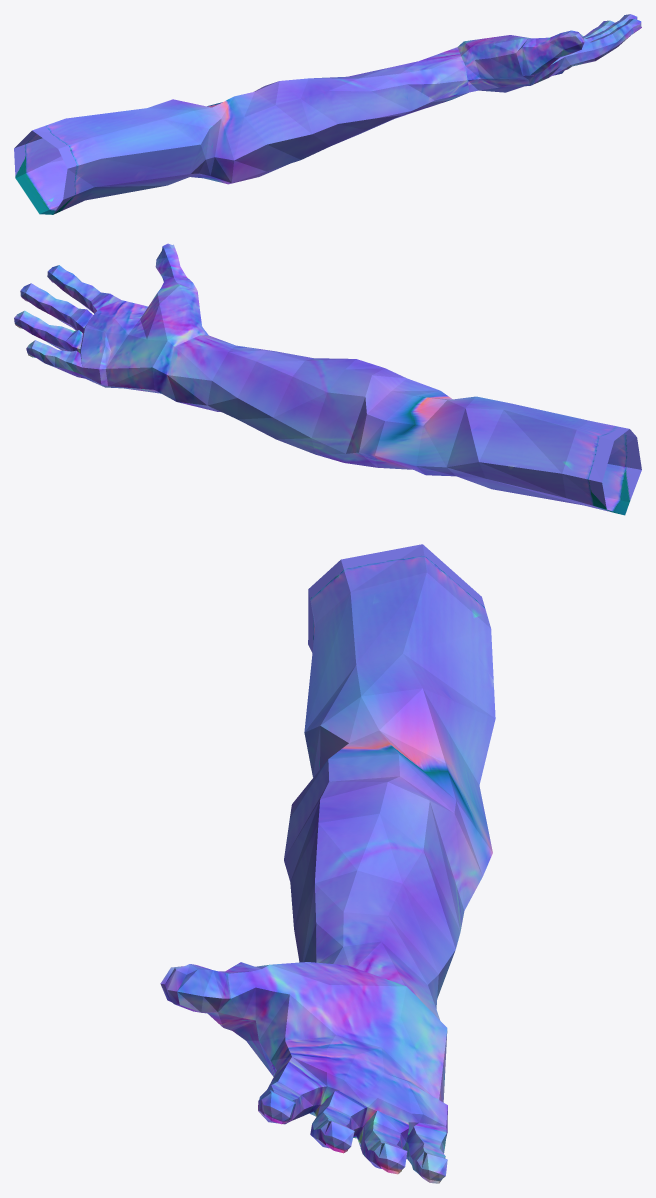
The model's file is Hand_v1.obj.
3 renders of one model, top to bottom at view 1: azimuth 30°, elevation 25°; view 2: azimuth 150°, elevation 25°; view 3: azimuth 270°, elevation 25°, orthographic. The views are drawn at different scales.
Parts seen in each view (by area): view 1: Plane.002; view 2: Plane.002; view 3: Plane.002.
Boxes of the visible parts, x1,y1,x2,y2 form: Plane.002: (14,14,641,214); Plane.002: (14,243,641,515); Plane.002: (160,544,495,1183).
Bounding box in the file's own units: 4.99 × 0.9026 × 1.23.
